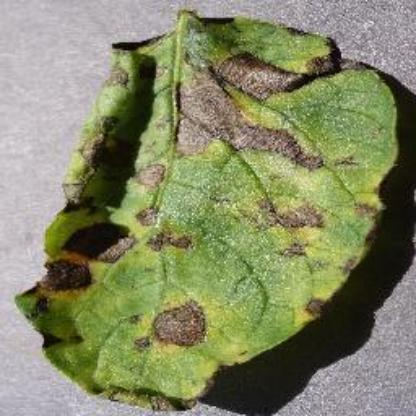Early-Blight: (16, 0, 410, 416)
